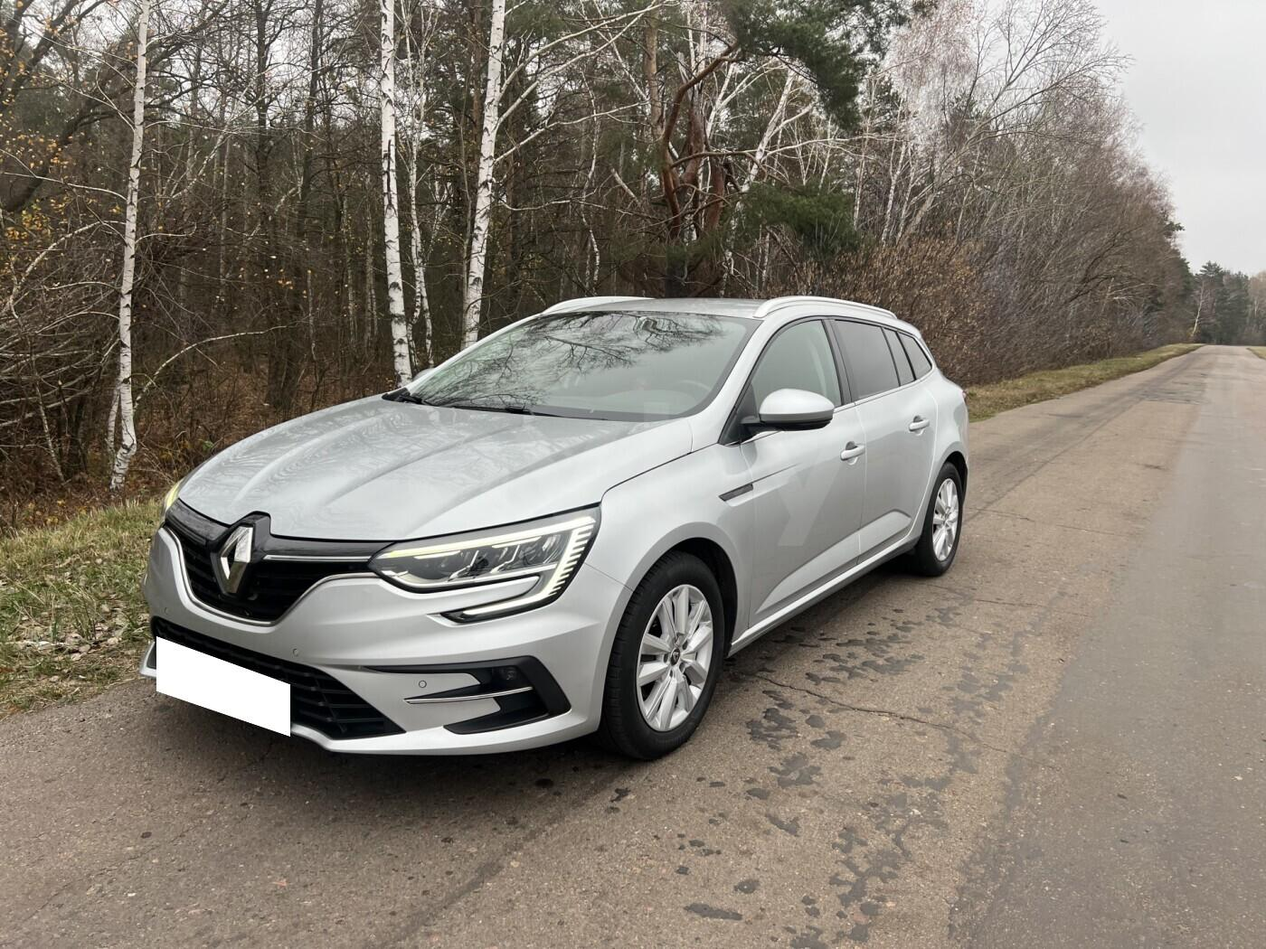Megane_2020: (114, 278, 957, 785)
